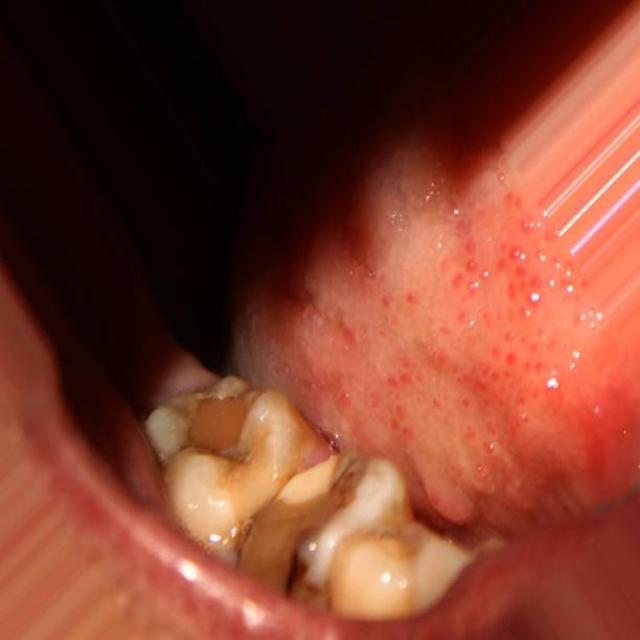caries: (229, 448, 406, 600), (154, 362, 272, 492)
